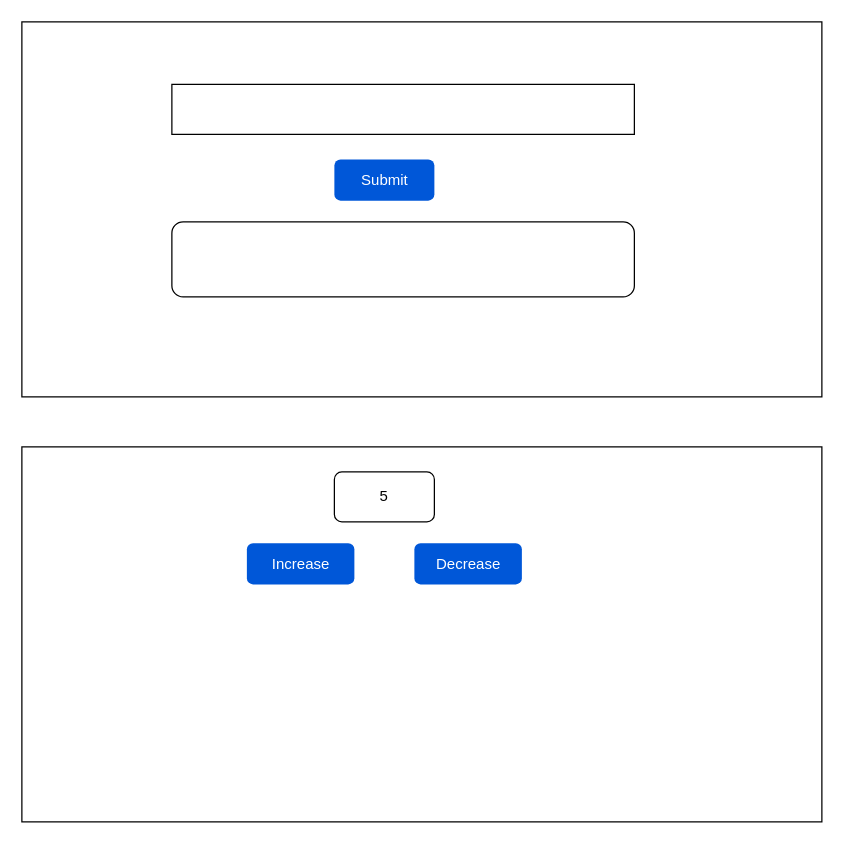
This 844x844 diagram has some shape labels left out. Each missing label, with the centre of its shape:
Ans...: (402,259)
Enter any number: (402,108)
